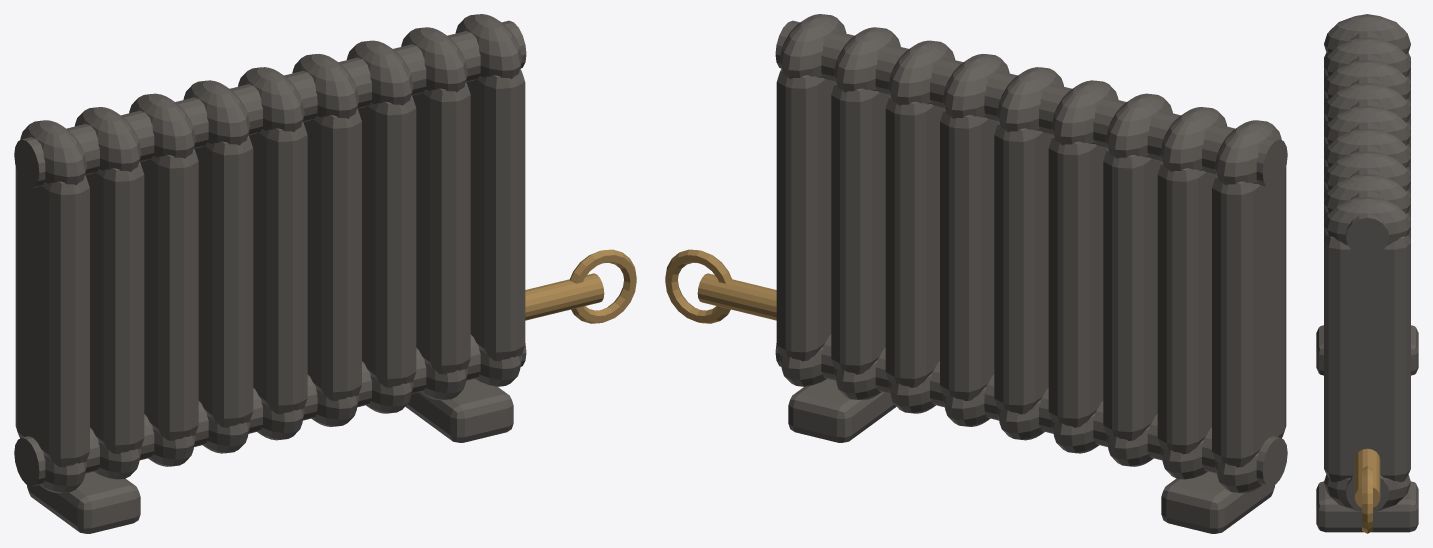
The model's file is radiator.glb.
3 views of the same model, side by side, from view 1: azimuth 30°, elevation 25°; view 2: azimuth 150°, elevation 25°; view 3: azimuth 270°, elevation 25° (orthographic). The views are drawn at different scales.
Visible parts, largest first — view 1: Section_0, Section_8, Section_3, Section_6, Section_1, Section_4, Section_7, Section_2, Section_5, TopCollector, BottomCollector, Foot.001 (+21 smaller); view 2: Section_0, Section_8, Section_3, Section_6, Section_1, Section_4, Section_7, Section_2, Section_5, TopCollector, BottomCollector, Foot.001 (+21 smaller); view 3: Section_8, Foot.001, TopCollector, TopShoulder_8, TopShoulder_3, TopShoulder_7, TopShoulder_2, TopShoulder_4, TopShoulder_6, TopShoulder_0, TopShoulder_1, TopShoulder_5 (+5 smaller).
Boxes of the visible parts, x1,y1,x2,y2 form: Section_0: (15, 166, 89, 467); Section_8: (466, 69, 525, 361); Section_3: (194, 135, 253, 427); Section_6: (357, 95, 416, 387); Section_1: (85, 162, 144, 454); Section_4: (249, 122, 307, 414); Section_7: (412, 82, 470, 374); Section_2: (140, 149, 198, 440); Section_5: (303, 109, 361, 400); TopCollector: (14, 20, 526, 188); BottomCollector: (14, 334, 526, 486); Foot.001: (405, 379, 513, 442); Section_0: (1212, 166, 1286, 467); Section_8: (776, 69, 835, 361); Section_3: (1048, 135, 1107, 427); Section_6: (885, 95, 944, 387); Section_1: (1157, 162, 1216, 454); Section_4: (994, 122, 1052, 414); Section_7: (831, 82, 889, 374); Section_2: (1103, 149, 1161, 440); Section_5: (940, 109, 998, 400); TopCollector: (775, 20, 1287, 188); BottomCollector: (775, 334, 1287, 486); Foot.001: (788, 379, 896, 442); Section_8: (1324, 235, 1410, 482); Foot.001: (1316, 481, 1418, 532); TopCollector: (1346, 14, 1388, 256); TopShoulder_8: (1324, 197, 1410, 245); TopShoulder_3: (1324, 83, 1410, 122); TopShoulder_7: (1324, 174, 1410, 213); TopShoulder_2: (1324, 60, 1410, 99); TopShoulder_4: (1324, 106, 1410, 145); TopShoulder_6: (1324, 151, 1410, 190); TopShoulder_0: (1324, 15, 1410, 54); TopShoulder_1: (1324, 37, 1410, 76); TopShoulder_5: (1324, 128, 1410, 167).
Size of the model in its own units: 1.18 by 0.725 by 0.2.
